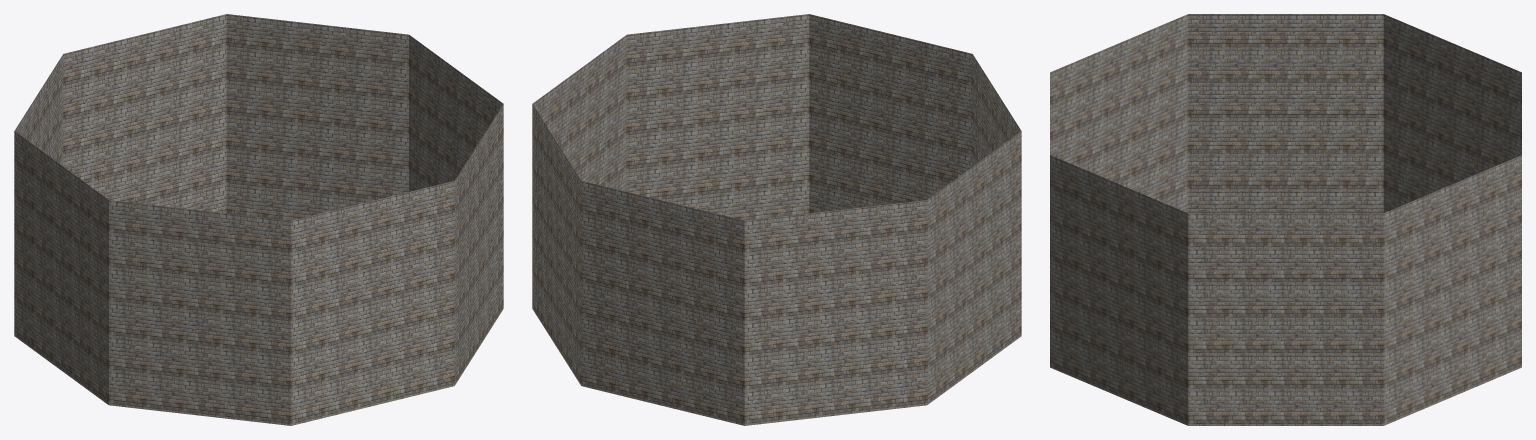
Rendered from CircularWalls.fbx.
3 renders of one model, left to right at view 1: azimuth 30°, elevation 25°; view 2: azimuth 150°, elevation 25°; view 3: azimuth 270°, elevation 25°, orthographic. The views are drawn at different scales.
Visible parts, largest first — view 1: CircularWalls; view 2: CircularWalls; view 3: CircularWalls.
Boxes of the visible parts, x1,y1,x2,y2 form: CircularWalls: (14,14,503,425); CircularWalls: (532,14,1021,425); CircularWalls: (1050,14,1521,425).
Bounding box in the file's own units: 1811 × 900 × 1811.
